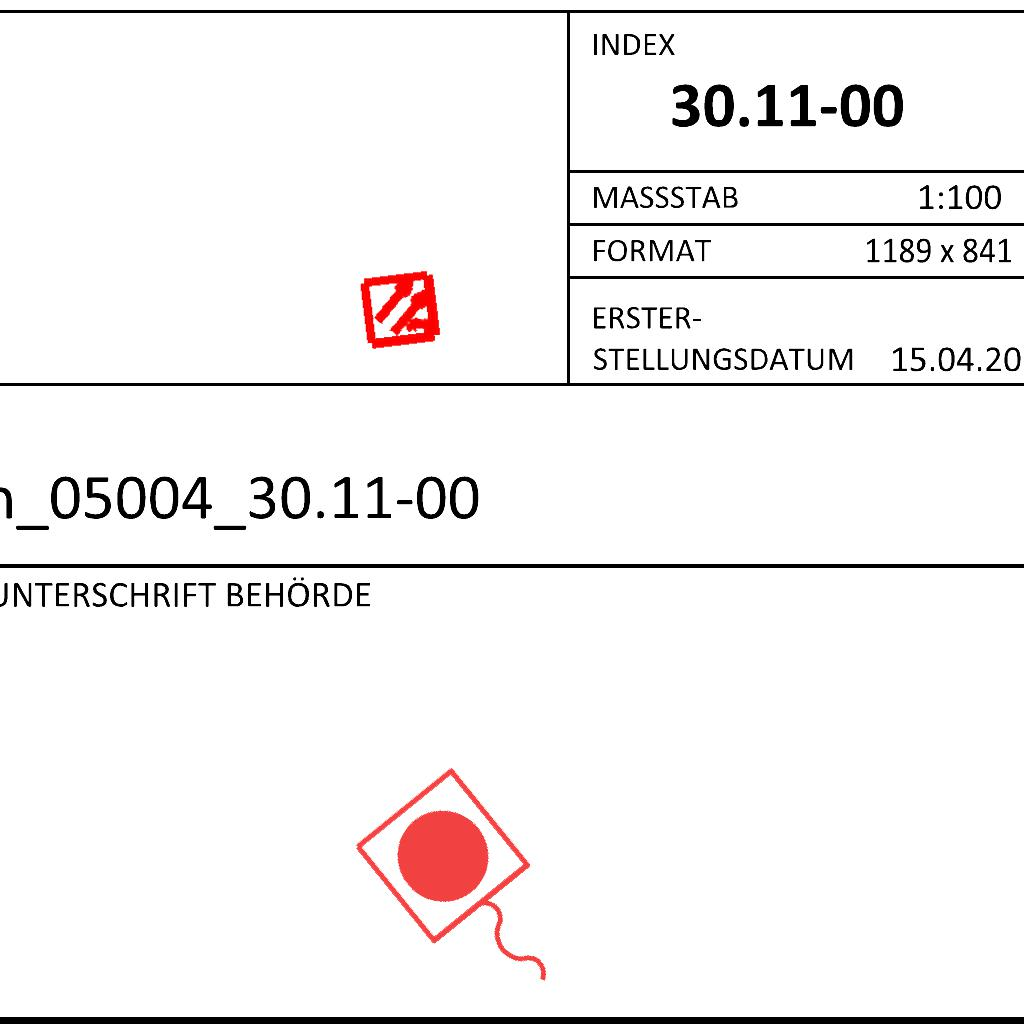OT_Multisensormelder_(Kombination_RMO_WMD): (339, 246, 466, 373)
Zugtaster: (340, 755, 606, 1024)
